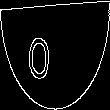O_N: (43, 29, 67, 81)
